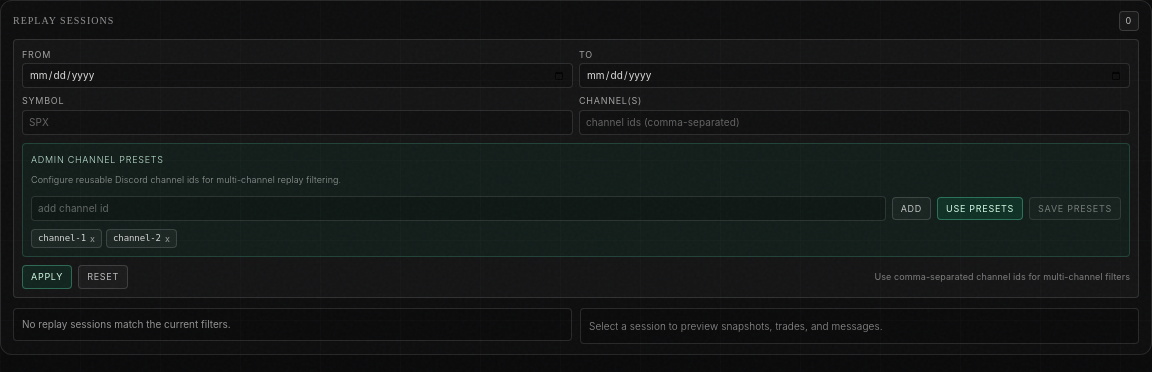
spx-command-center/replay-session-browser › loads admin replay channel presets and applies them into filters
Expected: the element with test id "spx-replay-admin-channels-panel" is shown, [22,142,1130,257]
Expected: the element with test id "spx-replay-admin-channel-chip-channel-1" is shown, [31,229,102,248]
Click the button with test id "spx-replay-admin-channels-apply" at (980,208), box [937,197,1023,220]
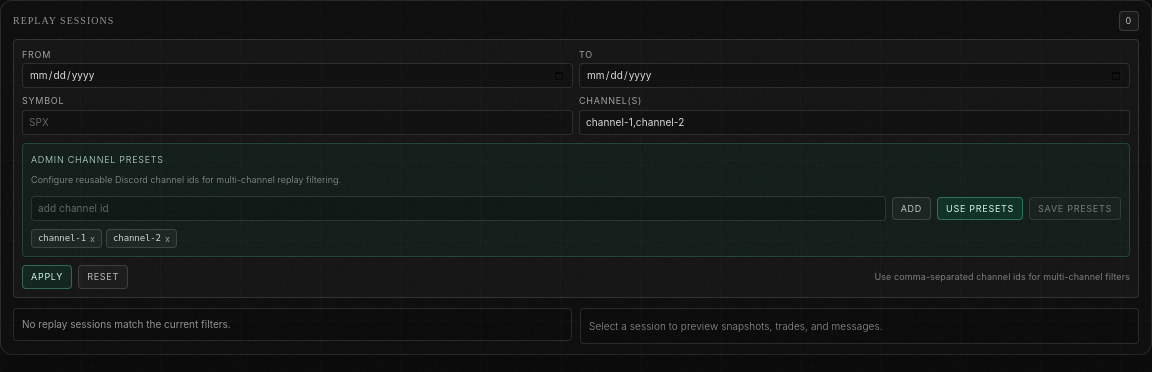
Result: the field with placeholder "channel ids (comma-separated)" holds "channel-1,channel-2" at [579,110,1130,134]
